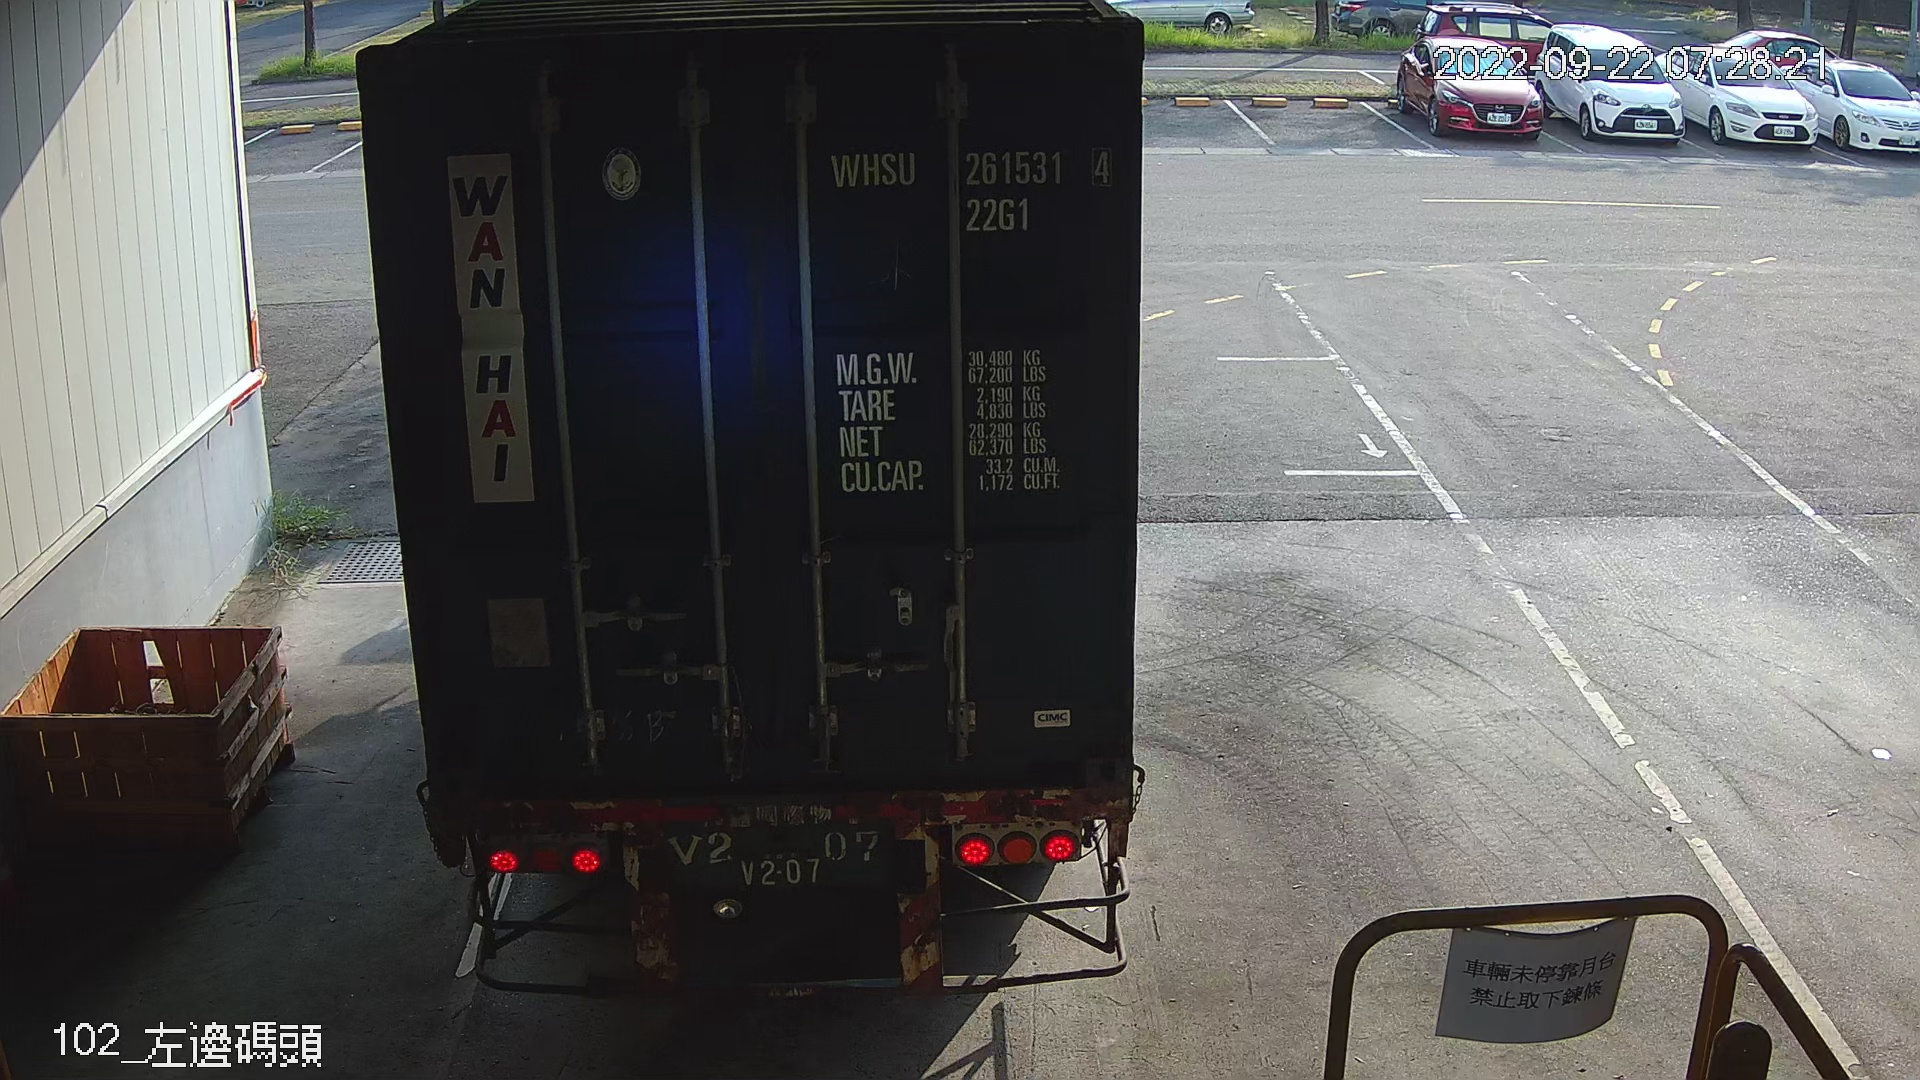container: (818, 138, 1124, 241)
